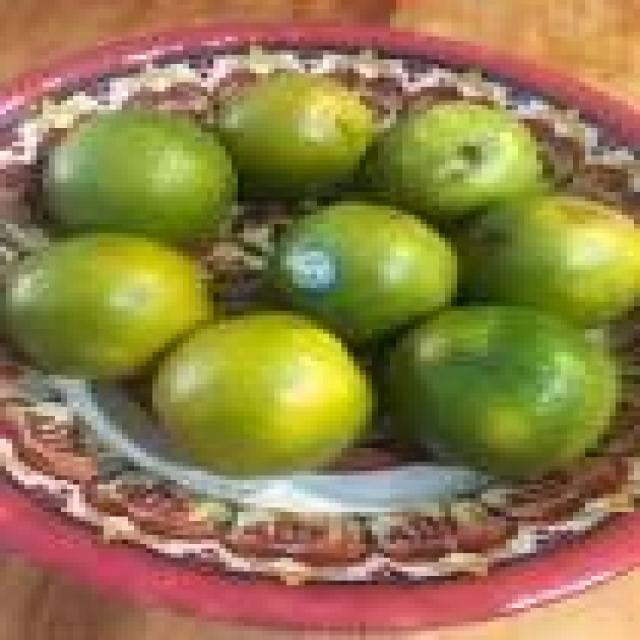orange: (384, 306, 616, 475), (152, 311, 366, 475), (0, 233, 207, 375), (268, 201, 451, 338), (43, 110, 232, 242), (463, 197, 634, 325), (366, 101, 536, 219), (213, 73, 372, 197)
